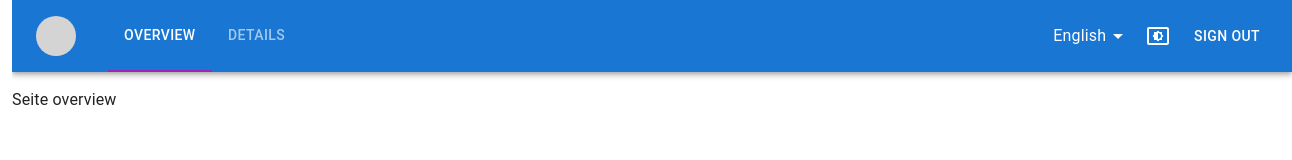
Test: createAppRouter › views of active plugins › goes to another page when its tab is clicked
Expected: the text "Seite overview" is shown, [12, 90, 116, 109]
Click the tab "Details" at coordinates (257, 35), box [228, 27, 285, 43]
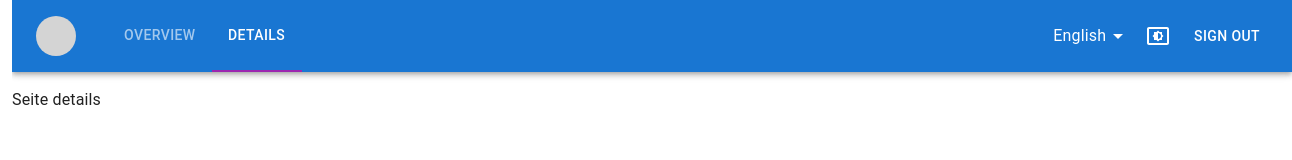
Result: the text "Seite details" is shown at [12, 90, 101, 109]
